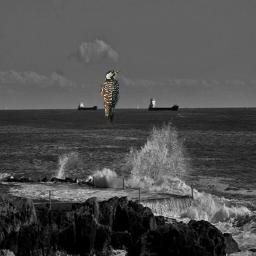Woodpecker: (96, 70, 122, 129)
